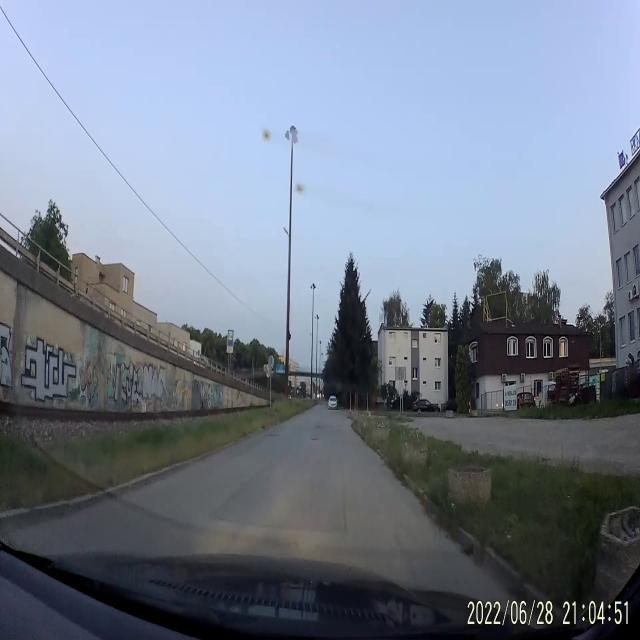Pothole: (262, 430, 284, 440), (308, 434, 322, 447)
